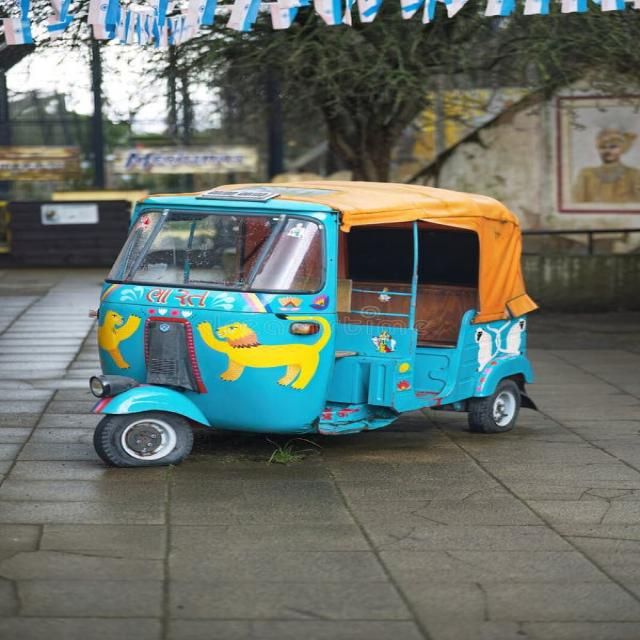autorickshaw: (90, 181, 536, 466)
